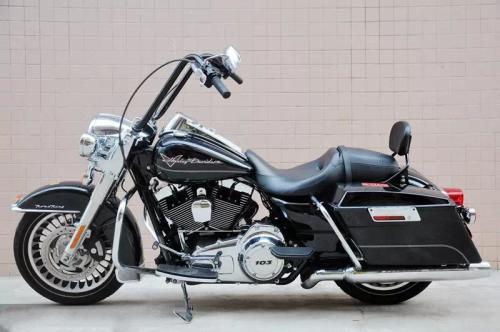motor: (30, 49, 489, 316)
